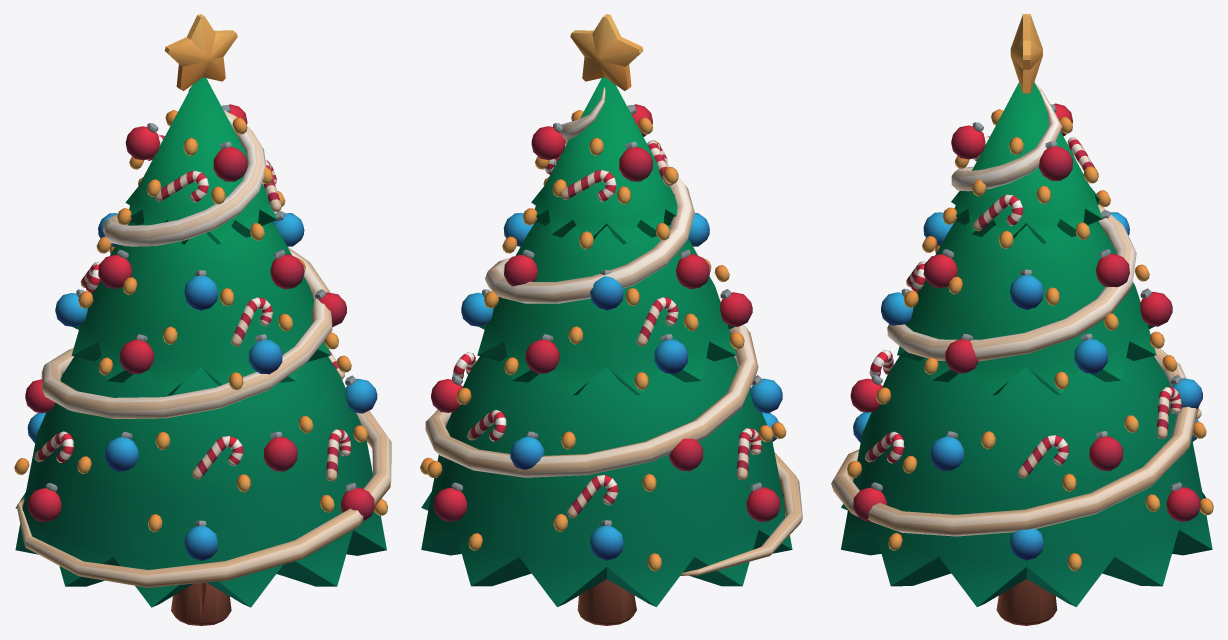
File: christmas_tree.fbx
The picture shows the model from 3 angles, left to right: view 1: azimuth 30°, elevation 25°; view 2: azimuth 150°, elevation 25°; view 3: azimuth 270°, elevation 25°; orthographic projection.
Visible parts, largest first — view 1: christmas_tree; view 2: christmas_tree; view 3: christmas_tree.
Part boxes in pixels (box(x1,y1,x2,y2)): christmas_tree: box(14, 14, 391, 625); christmas_tree: box(420, 14, 802, 625); christmas_tree: box(831, 14, 1213, 625).
Bounding box in the file's own units: 2.41 × 4.03 × 2.33.
